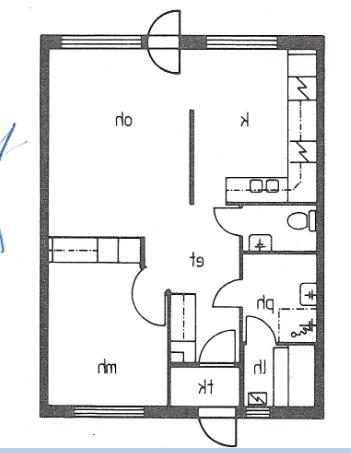bathroom: (240, 206, 317, 253)
door: (128, 266, 169, 331), (196, 404, 239, 450), (145, 34, 186, 78), (144, 6, 182, 50), (196, 328, 238, 367), (210, 273, 245, 311), (245, 312, 278, 351), (212, 205, 245, 234)
perimeter: (39, 33, 329, 421)
window: (55, 31, 145, 55), (69, 401, 148, 426), (202, 32, 279, 53), (242, 404, 272, 420)
